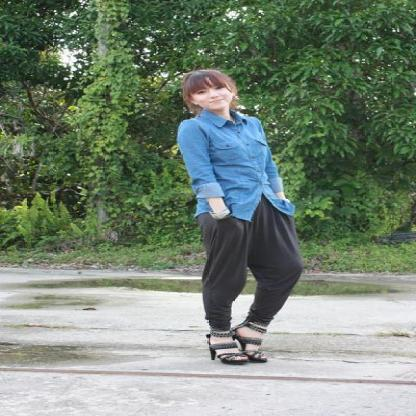pants: (192, 193, 301, 332)
shirt: (172, 106, 294, 220)
shoe: (208, 319, 267, 365)
